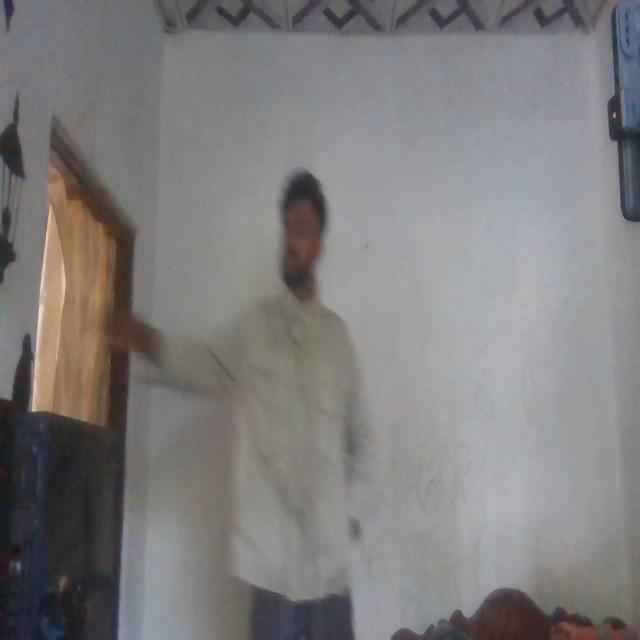Jacket_Wearer: (160, 280, 373, 558)
Person: (177, 147, 376, 640)
